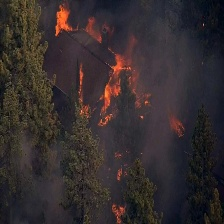fire: (104, 55, 137, 123), (52, 4, 75, 38), (75, 66, 89, 118), (112, 150, 133, 181), (169, 107, 187, 141), (108, 202, 127, 221)
smoke: (143, 52, 179, 191), (12, 145, 71, 222)
